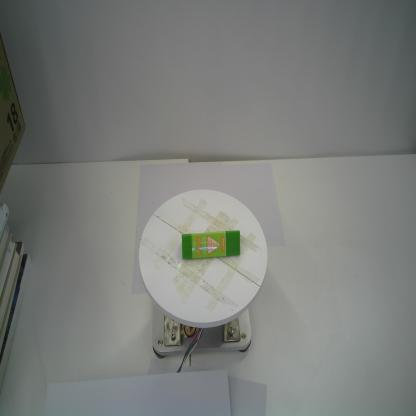Stationery: (180, 226, 242, 262)
